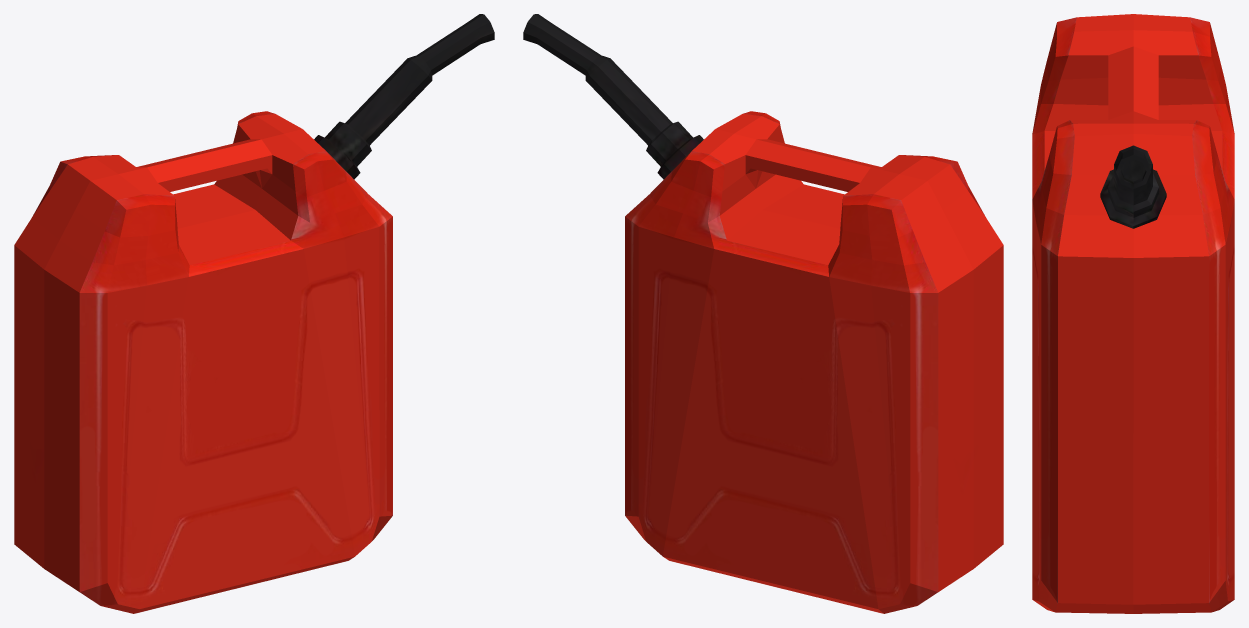
The model's file is GasCan.fbx.
The picture shows the model from 3 angles, left to right: view 1: azimuth 30°, elevation 25°; view 2: azimuth 150°, elevation 25°; view 3: azimuth 270°, elevation 25°; orthographic projection. The views are drawn at different scales.
Parts seen in each view (by area): view 1: GasCan; view 2: GasCan; view 3: GasCan.
Boxes of the visible parts, x1,y1,x2,y2 form: GasCan: [14, 14, 494, 613]; GasCan: [523, 14, 1003, 613]; GasCan: [1032, 14, 1234, 613].
Size of the model in its own units: 0.9782 by 1 by 0.3323.
